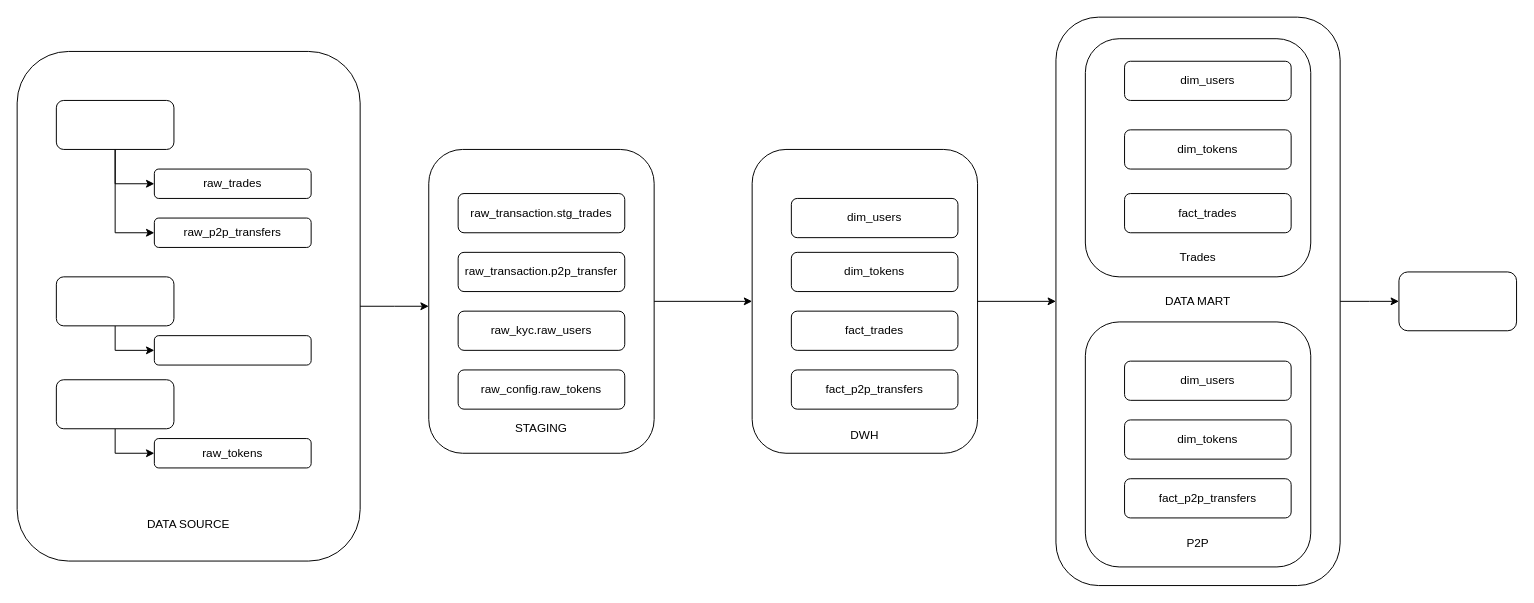
Image size: 1534x603. Some labels were removed from this diagram. The centre of each missing label's shape, as x and y in pixels:
"Analysis/Dashboards" belongs at (1457,301).
"raw_config" belongs at (114,404).
"raw_kyc" belongs at (114,301).
"raw_transaction" belongs at (114,124).
"raw_users" belongs at (232,350).
